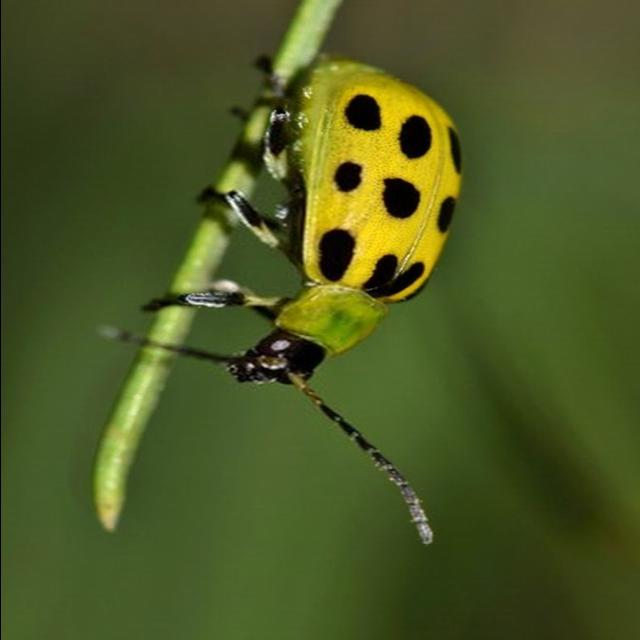cucumber_beetle: (128, 61, 483, 556)
